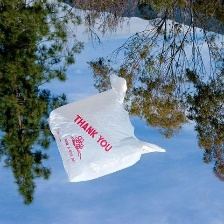plastic_bag: (42, 70, 168, 187)
